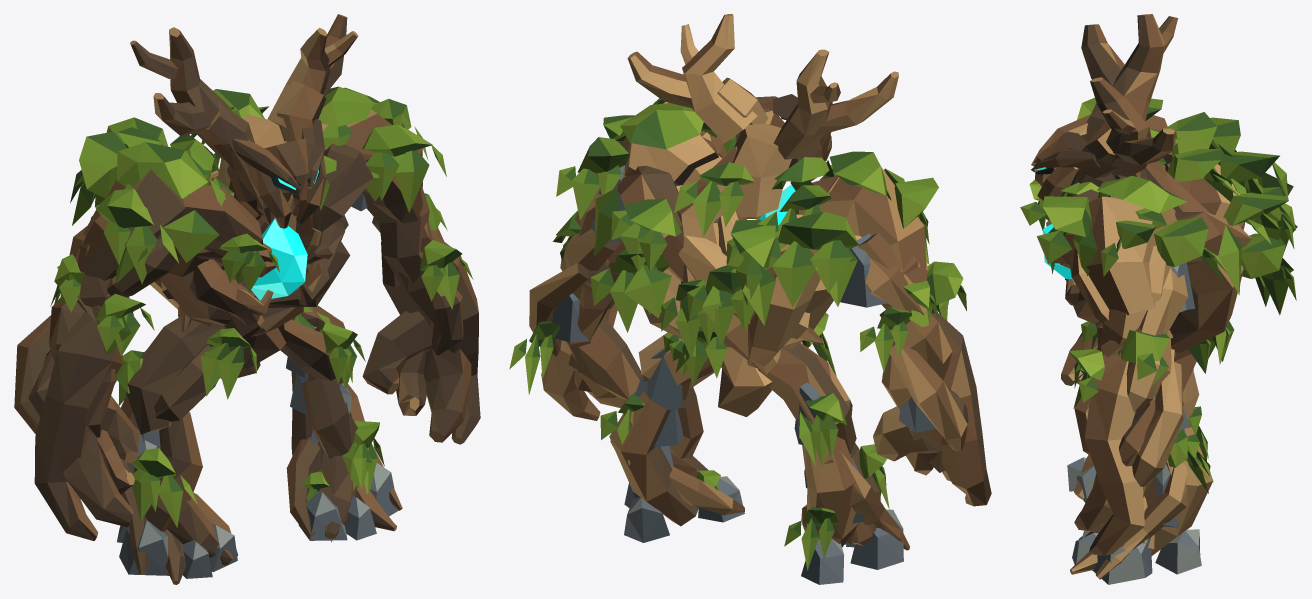
File: tide-root-colossus-complete-character-next.glb
3 views of the same model, side by side, from view 1: azimuth 30°, elevation 25°; view 2: azimuth 150°, elevation 25°; view 3: azimuth 270°, elevation 25° (orthographic). The views are drawn at different scales.
Visible parts, largest first — view 1: Forearm main to outer claw -1, Thigh load root -1, Forearm main to outer claw 1, Outer shoulder root -1, Middle root digit 1, Opposed root thumb 1, Left scapula saddle, Middle root digit -1, Calf crossing root 1, Right clavicle cascade, Arm descending trunk 1, Calf crossing root -1 (+73 smaller); view 2: Calf rear load 1, Outer shoulder root -1, Forearm main to outer claw -1, Crown right main, Neck rear root, Forearm root split -1, Thigh load root -1, Calf rear load -1, Opposed root thumb 1, Crown left main, Flank bowed trunk -1, Right high shoulder island (+61 smaller); view 3: Forearm main to outer claw 1, Outer shoulder root 1, Flank bowed trunk 1, Forearm root split 1, Crown left main, Lower leg lateral root 1, Crown right main, Arm winding bark ridge 1, Right rear outer fall, Right high shoulder island, Arm descending trunk 1, Calf rear load 1 (+51 smaller).
Part boxes in pixels (x1,y1,x2,y2): Forearm main to outer claw -1: [34, 312, 122, 541]; Thigh load root -1: [125, 317, 224, 434]; Forearm main to outer claw 1: [398, 232, 480, 444]; Outer shoulder root -1: [77, 169, 185, 280]; Middle root digit 1: [424, 348, 471, 442]; Opposed root thumb 1: [362, 311, 432, 394]; Left scapula saddle: [116, 142, 207, 198]; Middle root digit -1: [63, 433, 133, 527]; Calf crossing root 1: [301, 378, 357, 459]; Right clavicle cascade: [310, 143, 373, 231]; Arm descending trunk 1: [362, 187, 429, 294]; Calf crossing root -1: [145, 412, 202, 531]; Calf rear load 1: [609, 391, 698, 526]; Outer shoulder root -1: [799, 167, 926, 283]; Forearm main to outer claw -1: [931, 313, 991, 506]; Crown right main: [682, 14, 757, 143]; Neck rear root: [732, 124, 791, 217]; Forearm root split -1: [890, 343, 967, 451]; Thigh load root -1: [758, 343, 856, 453]; Calf rear load -1: [802, 436, 859, 547]; Opposed root thumb 1: [568, 316, 641, 399]; Crown left main: [773, 49, 832, 159]; Flank bowed trunk -1: [747, 270, 820, 368]; Right high shoulder island: [620, 103, 703, 149]; Forearm main to outer claw 1: [1085, 353, 1144, 555]; Outer shoulder root 1: [1074, 196, 1177, 315]; Flank bowed trunk 1: [1169, 260, 1243, 352]; Forearm root split 1: [1132, 361, 1183, 486]; Crown left main: [1104, 14, 1165, 132]; Lower leg lateral root 1: [1096, 455, 1196, 579]; Crown right main: [1090, 77, 1151, 176]; Arm winding bark ridge 1: [1100, 268, 1187, 357]; Right rear outer fall: [1154, 217, 1208, 266]; Right high shoulder island: [1097, 175, 1187, 213]; Arm descending trunk 1: [1097, 246, 1170, 350]; Calf rear load 1: [1151, 427, 1212, 555].
Size of the model in its own units: 5.42 by 6.1 by 3.15.
